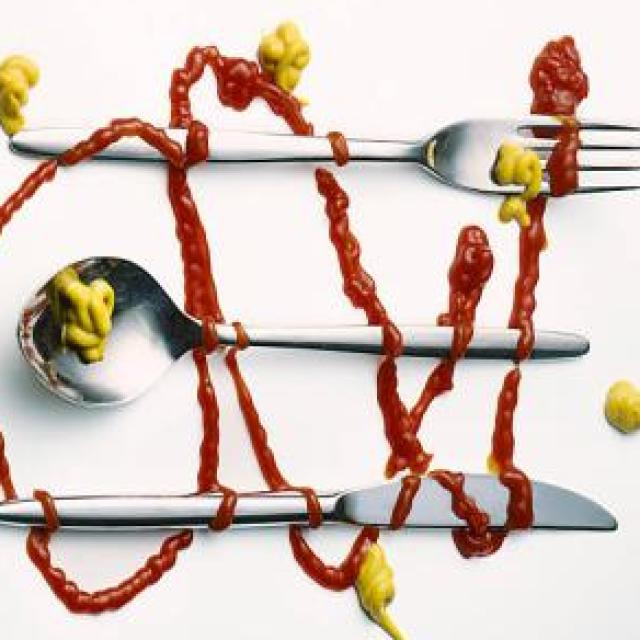knife: (0, 469, 621, 532)
